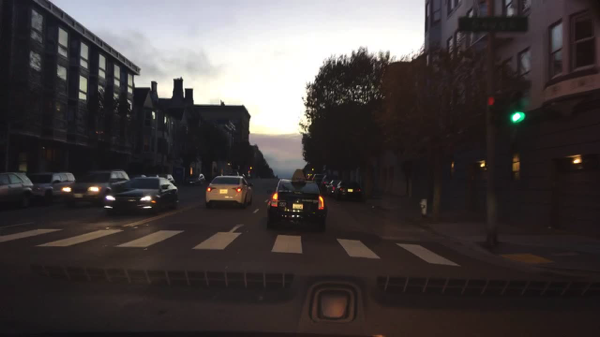car: (267, 169, 328, 231), (103, 176, 178, 216), (70, 169, 130, 206), (205, 175, 253, 207), (28, 171, 75, 203), (0, 171, 34, 207), (334, 181, 362, 200), (319, 175, 337, 191), (186, 173, 206, 186), (326, 180, 339, 195), (159, 175, 176, 186), (311, 173, 323, 186), (129, 174, 146, 178), (231, 171, 241, 177), (305, 174, 312, 182), (244, 172, 252, 179), (147, 174, 159, 177), (240, 173, 246, 178)
traffic light: (508, 90, 525, 128), (487, 94, 506, 127)
traffic sign: (456, 15, 528, 34)
